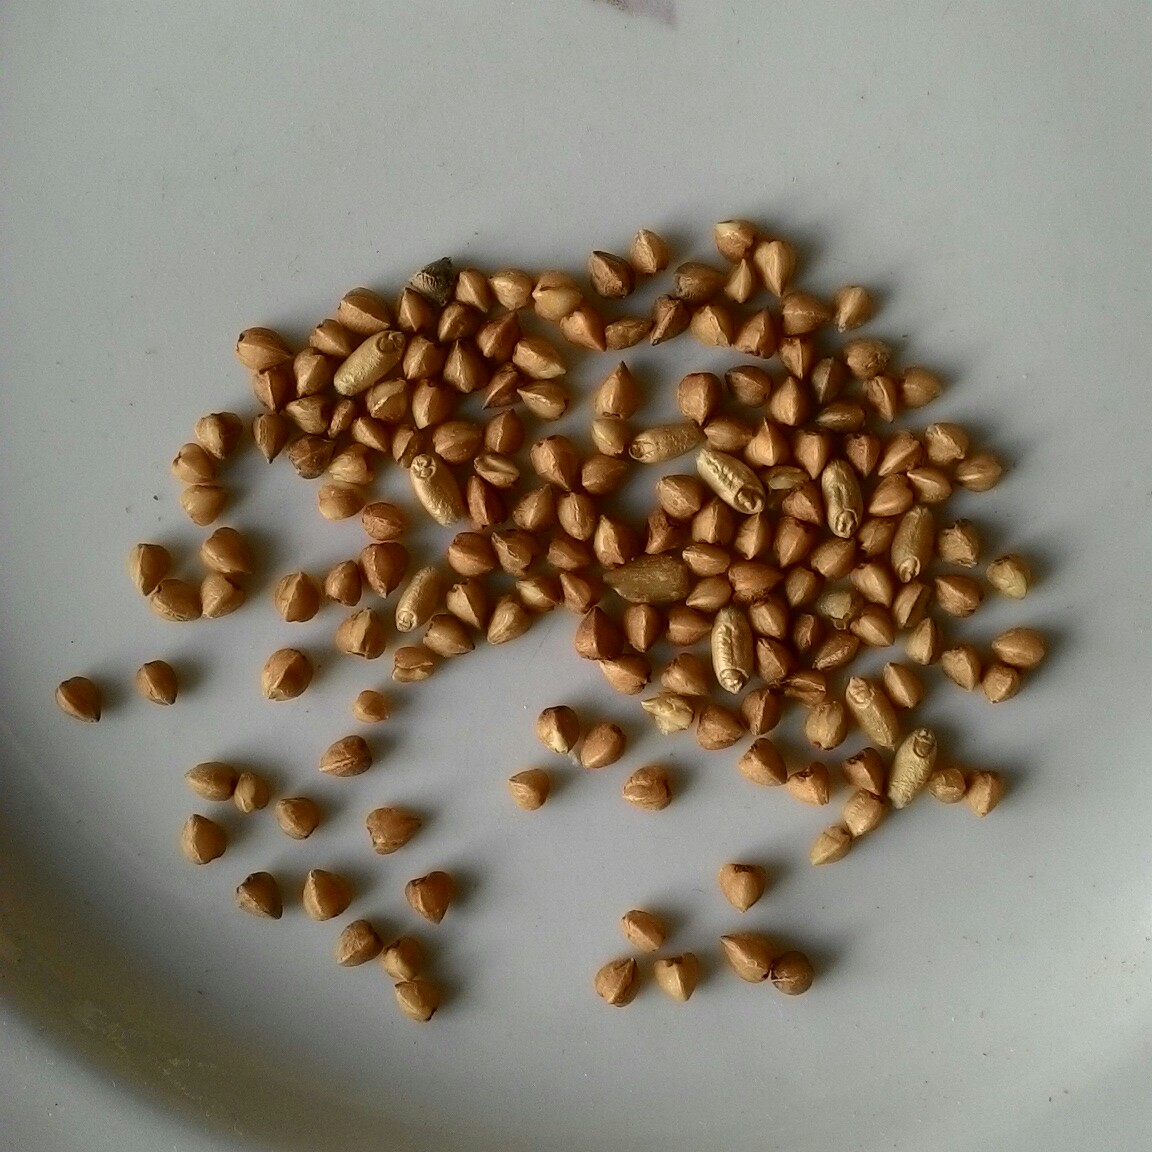semka: (597, 548, 696, 611)
wheat: (691, 441, 773, 523), (329, 323, 405, 400), (842, 669, 905, 759), (883, 724, 946, 811), (403, 452, 474, 529), (625, 411, 713, 471), (704, 600, 759, 693), (888, 501, 943, 589), (813, 458, 868, 540), (390, 562, 445, 636)
